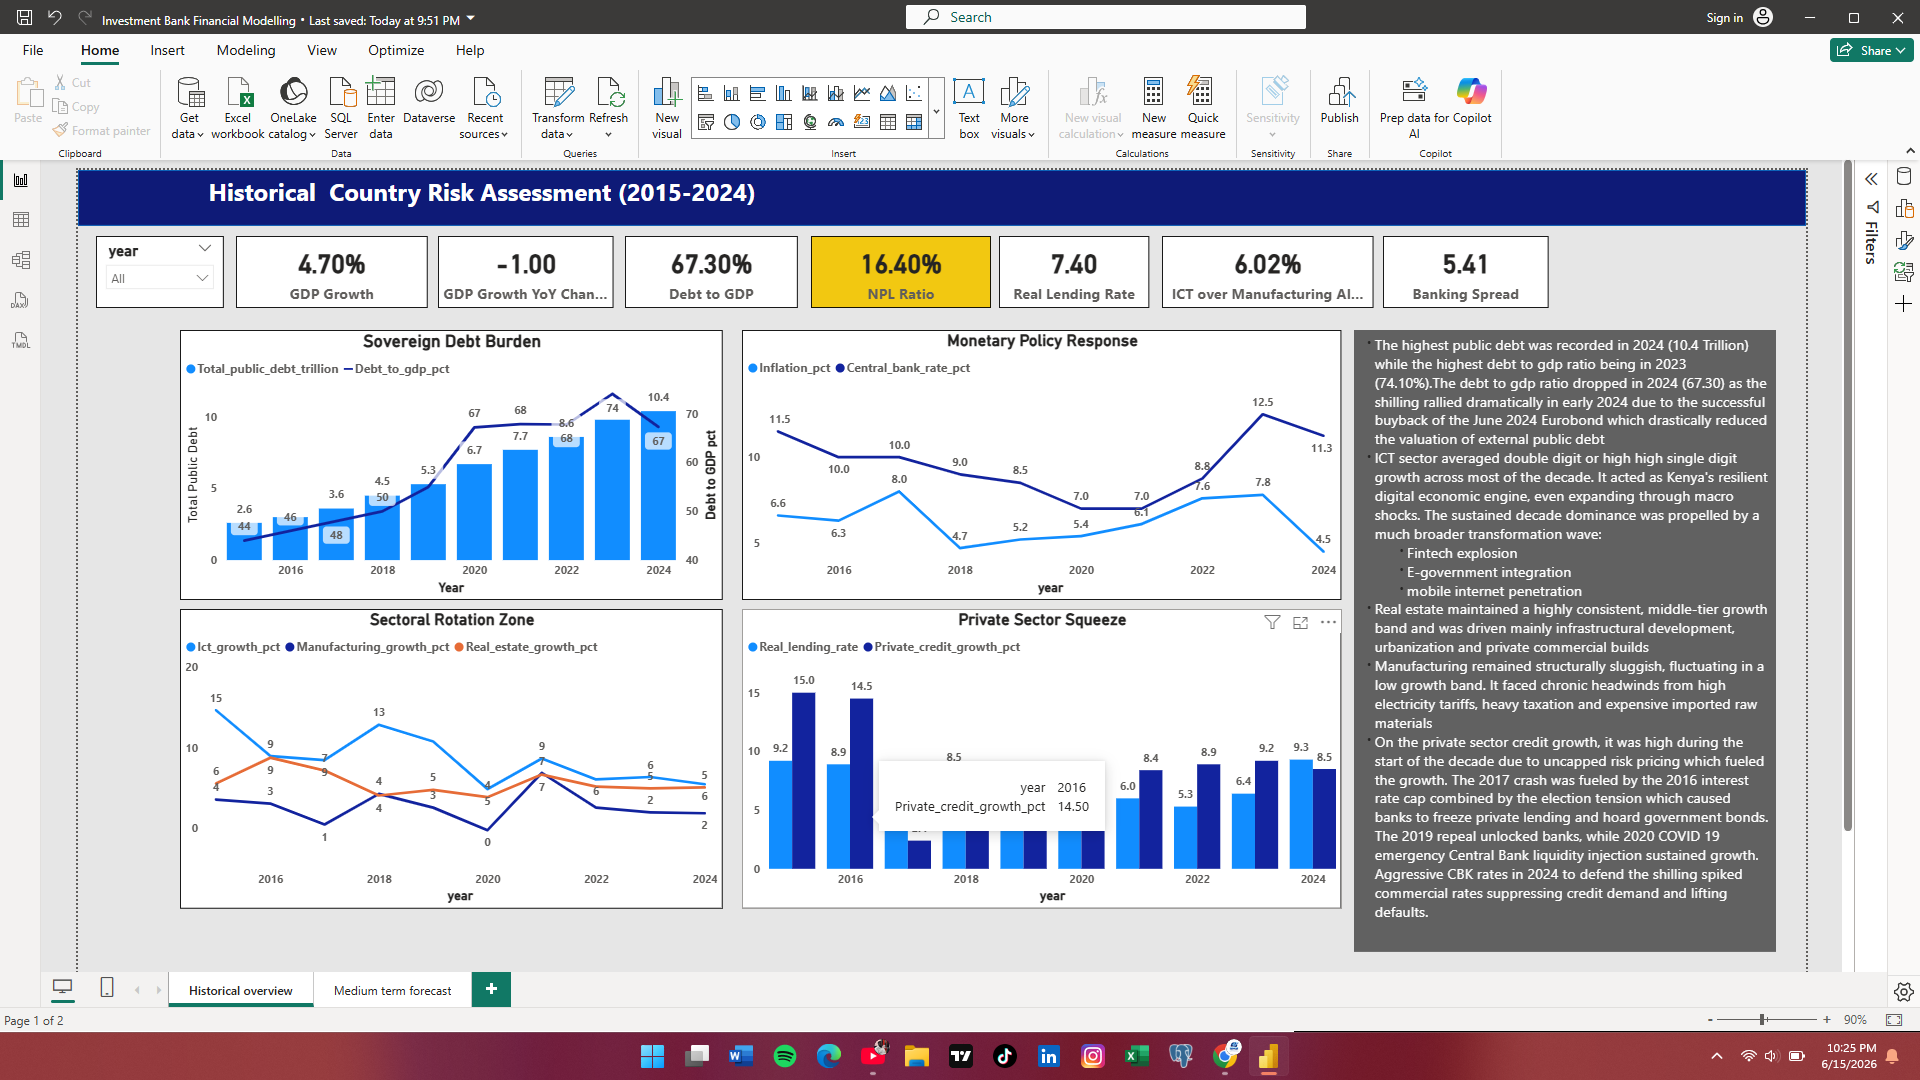

What the dashboard file says about the page in this screenshot:
{"tool":"powerbi","page":{"name":"Historical overview","canvas":[1920,1080],"ordinal":0},"visuals":[{"type":"slicer","fields":{"Values":["public v_ib_kenya_macro_model.year"]},"box":[20,73,142,80],"z":0},{"type":"card","fields":{"Values":["Calculated_Measure.GDP Growth"]},"box":[175,73,213,80],"z":1000},{"type":"card","fields":{"Values":["Calculated_Measure.Debt to GDP"]},"box":[608,73,192,80],"z":2000},{"type":"card","fields":{"Values":["Calculated_Measure.NPL Ratio"]},"box":[814,73,200,80],"z":3000},{"type":"card","fields":{"Values":["Calculated_Measure.ICT over Manufacturing Alpha"]},"box":[1204,73,235,80],"z":4000},{"type":"card","fields":{"Values":["Calculated_Measure.Real Lending Rate"]},"box":[1023,73,167,80],"z":5000},{"type":"card","fields":{"Values":["Calculated_Measure.Banking Spread"]},"box":[1450,73,184,80],"z":6000},{"type":"card","fields":{"Values":["Calculated_Measure.GDP Growth YoY Change"]},"box":[400,73,195,80],"z":7000},{"type":"lineClusteredColumnComboChart","title":"Sovereign Debt Burden","fields":{"Category":["public v_ib_kenya_macro_model.year"],"Y":["Sum(public v_ib_kenya_macro_model.total_public_debt_trillion)"],"Y2":["Sum(public v_ib_kenya_macro_model.debt_to_gdp_pct)"]},"box":[113,178,603,300],"z":8000},{"type":"lineChart","title":"Monetary Policy Response","fields":{"Category":["public v_ib_kenya_macro_model.year"],"Y":["Sum(public v_ib_kenya_macro_model.inflation_pct)","Sum(public v_ib_kenya_macro_model.central_bank_rate_pct)"]},"box":[738,178,666,300],"z":9000},{"type":"lineChart","title":"Sectoral Rotation Zone","fields":{"Category":["public v_ib_kenya_macro_model.year"],"Y":["Sum(public v_ib_kenya_macro_model.ict_growth_pct)","Sum(public v_ib_kenya_macro_model.manufacturing_growth_pct)","Sum(public v_ib_kenya_macro_model.real_estate_growth_pct)"]},"box":[113,488,603,333],"z":10000},{"type":"clusteredColumnChart","title":"Private Sector Squeeze","fields":{"Category":["public v_ib_kenya_macro_model.year"],"Y":["Sum(public v_ib_kenya_macro_model.real_lending_rate)","Sum(public v_ib_kenya_macro_model.private_credit_growth_pct)"]},"box":[738,488,666,333],"z":11000},{"type":"shape","box":[1417.8,177.8,468.9,691.1],"z":12000},{"type":"textbox","box":[1417.8,177.8,468.9,691.1],"z":13000},{"type":"shape","box":[0,0,1920,62],"z":14000},{"type":"textbox","box":[0,0,899,62],"z":15000}]}

Visuals, with their boxes on the page's 1920x1080 design canvas (x1, y1, x2, y2). These are canvas units, not pixel positions in the 1920x1080 screenshot, which may show the page scaled, cropped or inside an application window:
slicer - public v_ib_kenya_macro_model.year: region(20, 73, 162, 153)
card - Calculated_Measure.GDP Growth: region(175, 73, 388, 153)
card - Calculated_Measure.Debt to GDP: region(608, 73, 800, 153)
card - Calculated_Measure.NPL Ratio: region(814, 73, 1014, 153)
card - Calculated_Measure.ICT over Manufacturing Alpha: region(1204, 73, 1439, 153)
card - Calculated_Measure.Real Lending Rate: region(1023, 73, 1190, 153)
card - Calculated_Measure.Banking Spread: region(1450, 73, 1634, 153)
card - Calculated_Measure.GDP Growth YoY Change: region(400, 73, 595, 153)
"Sovereign Debt Burden" lineClusteredColumnComboChart: region(113, 178, 716, 478)
"Monetary Policy Response" lineChart: region(738, 178, 1404, 478)
"Sectoral Rotation Zone" lineChart: region(113, 488, 716, 821)
"Private Sector Squeeze" clusteredColumnChart: region(738, 488, 1404, 821)
shape: region(1418, 178, 1887, 869)
textbox: region(1418, 178, 1887, 869)
shape: region(0, 0, 1920, 62)
textbox: region(0, 0, 899, 62)
